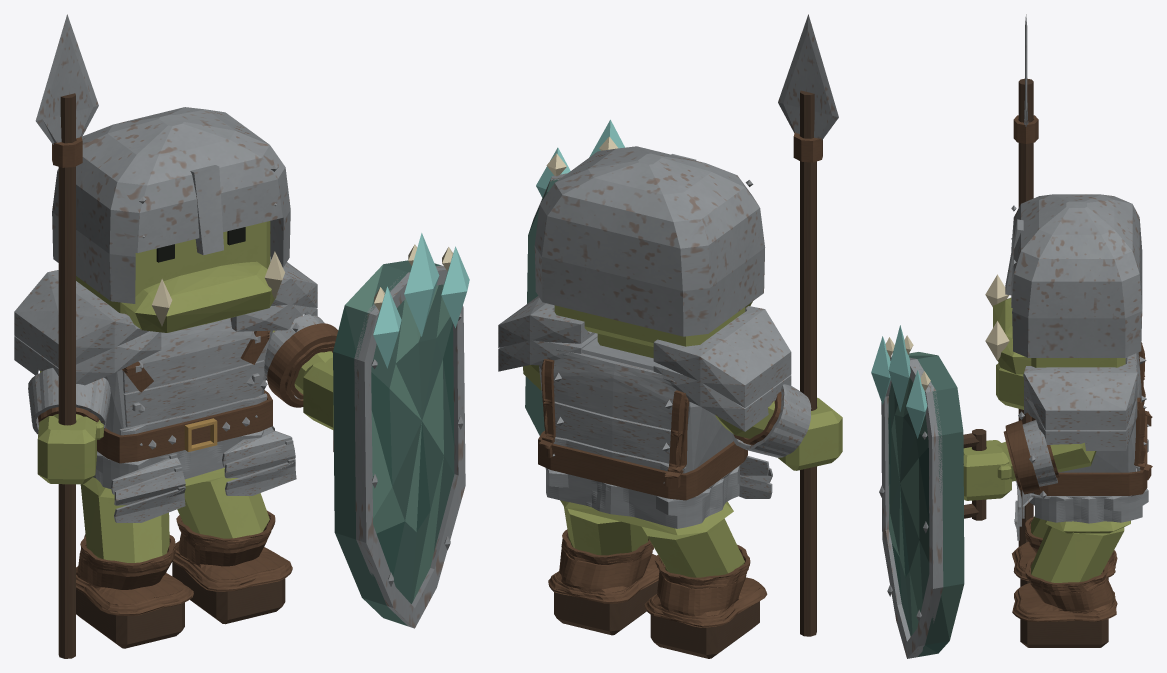
The model's file is host_41.glb.
The picture shows the model from 3 angles, left to right: view 1: azimuth 30°, elevation 25°; view 2: azimuth 150°, elevation 25°; view 3: azimuth 270°, elevation 25°; orthographic projection. The views are drawn at different scales.
Parts seen in each view (by area): view 1: Actual hollow angular source helmet, LEFT actual source shield body, One continuous source skull, Source broad riveted silver crystal shield perimeter, RIGHT source spear full actual handle, Source broad layered riveted iron shoulder RIGHT0, RIGHT source planted boot tall brown shin cuff, LEFT source planted boot tall brown shin cuff, Source fitted segmented steel FRONT 0, Source fitted segmented steel FRONT 1, Source full brown studded phalanx waist, RIGHT source short joined leg (+27 smaller); view 2: Actual hollow angular source helmet, Source broad layered riveted iron shoulder RIGHT0, RIGHT source spear full actual handle, Source fitted segmented steel BACK 0, Source fitted ragged hem, Source full brown studded phalanx waist, RIGHT source planted boot tall brown shin cuff, LEFT source planted boot tall brown shin cuff, Source fitted segmented steel BACK 1, RIGHT source short joined leg, RIGHT actual stout steel diamond spearhead, RIGHT source planted boot (+19 smaller); view 3: Actual hollow angular source helmet, LEFT actual source shield body, Source broad layered riveted iron shoulder LEFT0, Source broad riveted silver crystal shield perimeter, LEFT source planted boot tall brown shin cuff, LEFT source short joined leg, Source fitted ragged hem, Source full brown studded phalanx waist, LEFT real compact source grasp source compact planar grasp, LEFT source planted boot, One continuous source skull, RIGHT source spear full actual handle (+16 smaller).
Boxes of the visible parts, x1=… form: Actual hollow angular source helmet: x1=52, y1=107, x2=290, y2=303; LEFT actual source shield body: x1=333, y1=260, x2=454, y2=626; One continuous source skull: x1=76, y1=221, x2=276, y2=332; Source broad riveted silver crystal shield perimeter: x1=354, y1=265, x2=465, y2=628; RIGHT source spear full actual handle: x1=58, y1=93, x2=75, y2=658; Source broad layered riveted iron shoulder RIGHT0: x1=14, y1=270, x2=149, y2=367; RIGHT source planted boot tall brown shin cuff: x1=76, y1=534, x2=193, y2=615; LEFT source planted boot tall brown shin cuff: x1=172, y1=510, x2=292, y2=591; Source fitted segmented steel FRONT 0: x1=122, y1=318, x2=266, y2=393; Source fitted segmented steel FRONT 1: x1=123, y1=360, x2=264, y2=427; Source full brown studded phalanx waist: x1=97, y1=390, x2=272, y2=463; RIGHT source short joined leg: x1=80, y1=484, x2=169, y2=562; Actual hollow angular source helmet: x1=534, y1=146, x2=765, y2=336; Source broad layered riveted iron shoulder RIGHT0: x1=653, y1=306, x2=791, y2=407; RIGHT source spear full actual handle: x1=800, y1=90, x2=816, y2=636; Source fitted segmented steel BACK 0: x1=553, y1=349, x2=677, y2=429; Source fitted ragged hem: x1=545, y1=465, x2=739, y2=528; Source full brown studded phalanx waist: x1=538, y1=430, x2=747, y2=500; RIGHT source planted boot tall brown shin cuff: x1=644, y1=544, x2=767, y2=627; LEFT source planted boot tall brown shin cuff: x1=548, y1=529, x2=659, y2=603; Source fitted segmented steel BACK 1: x1=554, y1=401, x2=670, y2=463; RIGHT source short joined leg: x1=642, y1=518, x2=744, y2=577; RIGHT actual stout steel diamond spearhead: x1=778, y1=14, x2=838, y2=140; RIGHT source planted boot: x1=650, y1=601, x2=759, y2=658; Actual hollow angular source helmet: x1=1005, y1=194, x2=1142, y2=357; LEFT actual source shield body: x1=888, y1=352, x2=964, y2=656; Source broad layered riveted iron shoulder LEFT0: x1=1024, y1=354, x2=1137, y2=430; Source broad riveted silver crystal shield perimeter: x1=881, y1=356, x2=943, y2=658; LEFT source planted boot tall brown shin cuff: x1=1012, y1=557, x2=1117, y2=621; LEFT source short joined leg: x1=1031, y1=525, x2=1124, y2=582; Source fitted ragged hem: x1=1029, y1=439, x2=1148, y2=523; Source full brown studded phalanx waist: x1=1030, y1=415, x2=1147, y2=495; LEFT real compact source grasp source compact planar grasp: x1=963, y1=440, x2=1011, y2=500; LEFT source planted boot: x1=1020, y1=619, x2=1108, y2=647; One continuous source skull: x1=993, y1=297, x2=1125, y2=374; RIGHT source spear full actual handle: x1=1018, y1=78, x2=1033, y2=546.
Bounding box in the file's own units: 1.49 × 2.46 × 1.15.
12 materials, 7 textured.
